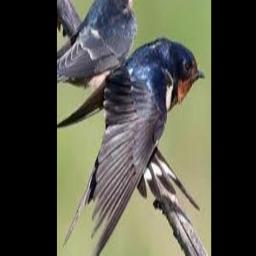Swallow: (57, 37, 205, 256), (57, 0, 137, 80)
